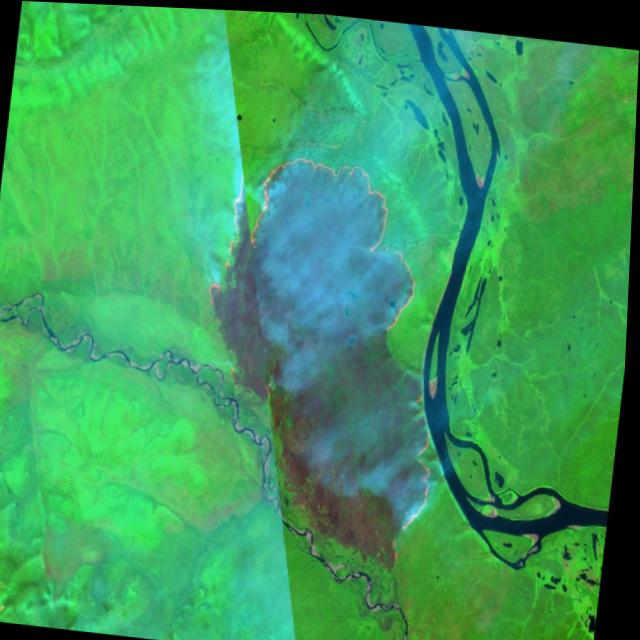fire: (204, 138, 434, 334), (387, 377, 449, 565)
